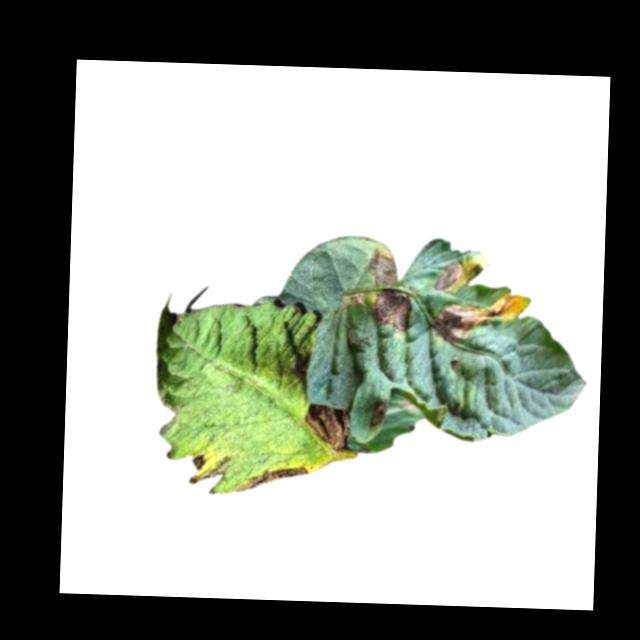Early_blight: (432, 289, 527, 346), (236, 462, 309, 496), (303, 404, 351, 453), (371, 289, 412, 334), (364, 242, 399, 287), (433, 258, 467, 291), (369, 394, 390, 428), (191, 451, 208, 470)
